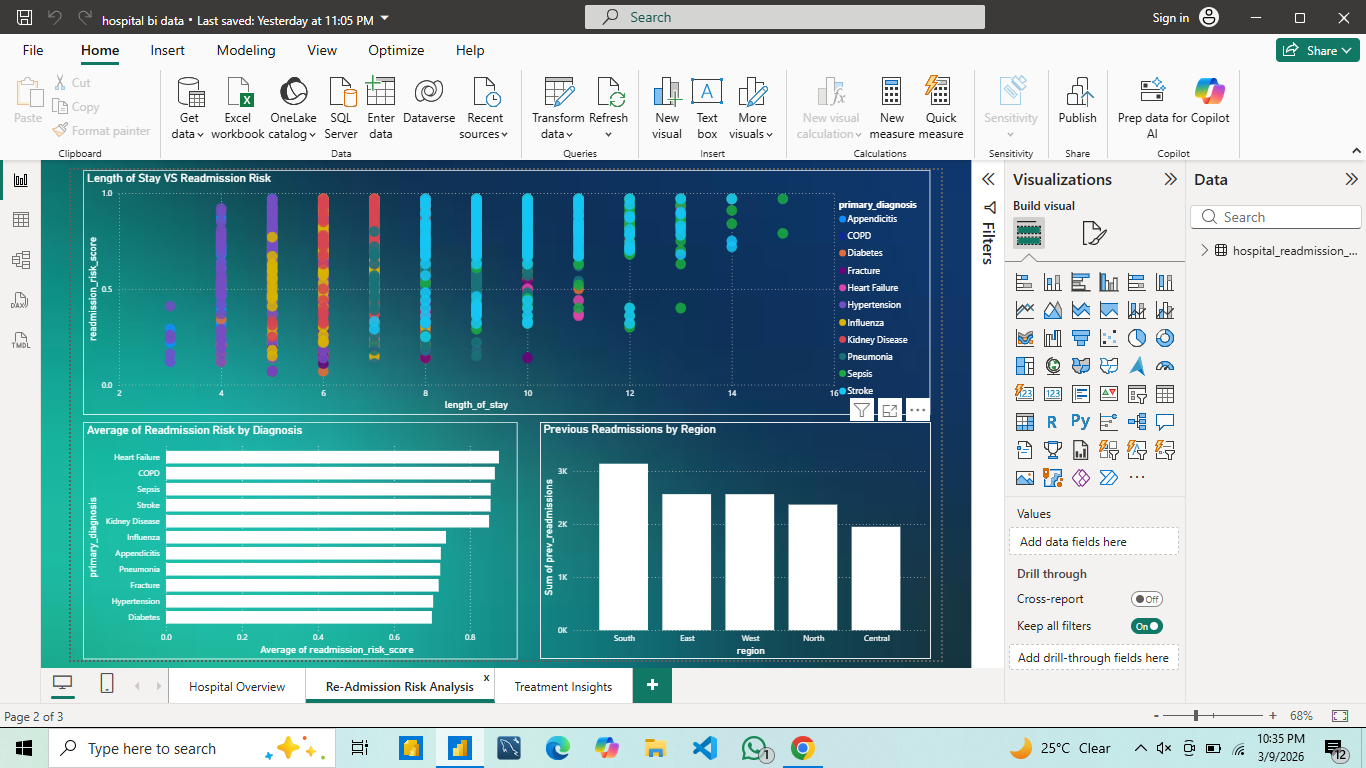

The dashboard page shown, as its layout file describes it:
{"tool":"powerbi","page":{"name":"Re-Admission Risk Analysis ","canvas":[1280,720],"ordinal":1},"visuals":[{"type":"scatterChart","title":"Length of Stay VS Readmission Risk ","fields":{"X":["hospital_readmission_dataset.length_of_stay"],"Y":["hospital_readmission_dataset.readmission_risk_score"],"Series":["hospital_readmission_dataset.primary_diagnosis"]},"box":[17.9,0,1246.3,359.7],"z":0},{"type":"clusteredBarChart","title":"Average of Readmission Risk by Diagnosis","fields":{"Category":["hospital_readmission_dataset.primary_diagnosis"],"Y":["Avg(hospital_readmission_dataset.readmission_risk_score)"]},"box":[17.9,370.1,638.8,349.3],"z":1000},{"type":"clusteredColumnChart","title":"Previous Readmissions by Region","fields":{"Category":["hospital_readmission_dataset.region"],"Y":["Sum(hospital_readmission_dataset.prev_readmissions)"]},"box":[689.6,370.1,574.6,349.3],"z":2000}]}

Visuals, with their boxes on the page's 1280x720 design canvas (x1, y1, x2, y2). These are canvas units, not pixel positions in the 1366x768 screenshot, which may show the page scaled, cropped or inside an application window:
"Length of Stay VS Readmission Risk " scatterChart: <box>18,0,1264,360</box>
"Average of Readmission Risk by Diagnosis" clusteredBarChart: <box>18,370,657,719</box>
"Previous Readmissions by Region" clusteredColumnChart: <box>690,370,1264,719</box>
